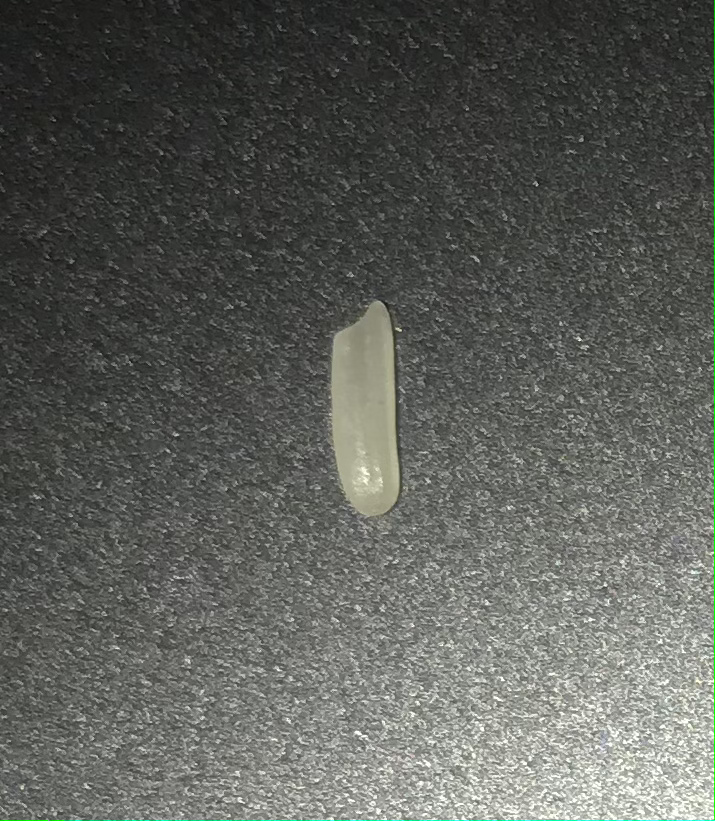Gao Long Lai: (315, 294, 431, 534)
